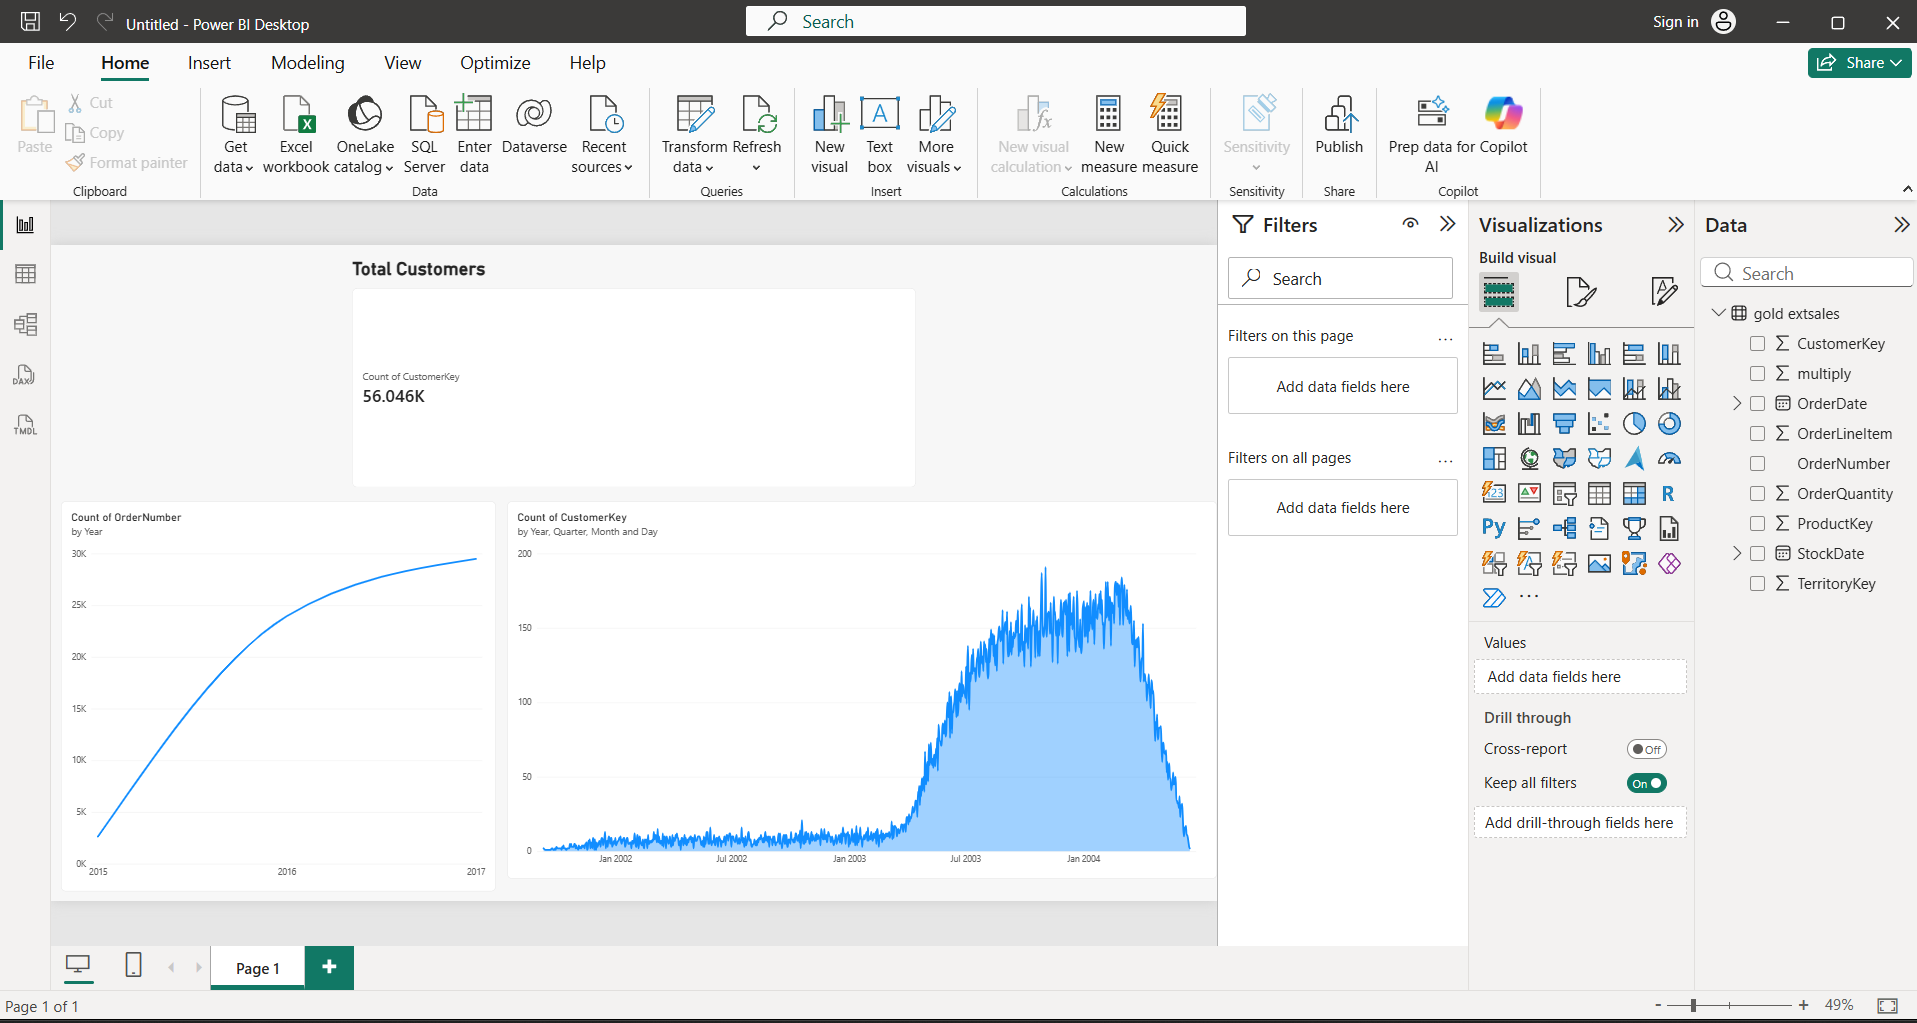

What the dashboard file says about the page in this screenshot:
{"tool":"powerbi","page":{"name":"Page 1","canvas":[1920,1080],"ordinal":0},"visuals":[{"type":"lineChart","fields":{"Category":["gold extsales.OrderDate.Variation.Date Hierarchy.Year","gold extsales.OrderDate.Variation.Date Hierarchy.Quarter","gold extsales.OrderDate.Variation.Date Hierarchy.Month","gold extsales.OrderDate.Variation.Date Hierarchy.Day"],"Y":["CountNonNull(gold extsales.OrderNumber)"]},"box":[14,540,782,518],"z":0},{"type":"cardVisual","title":"Total Customer","fields":{"Data":["CountNonNull(gold extsales.CustomerKey)"]},"box":[1387.3,32.9,496.1,436.4],"z":1},{"type":"areaChart","fields":{"Category":["gold extsales.StockDate"],"Y":["CountNonNull(gold extsales.CustomerKey)"]},"box":[14,0,1346,494],"z":2},{"type":"areaChart","fields":{"Category":["gold extsales.OrderDate.Variation.Date Hierarchy.Year","gold extsales.OrderDate.Variation.Date Hierarchy.Quarter","gold extsales.OrderDate.Variation.Date Hierarchy.Month","gold extsales.OrderDate.Variation.Date Hierarchy.Day"],"Y":["Sum(gold extsales.OrderQuantity)"]},"box":[828,540,982,518],"z":3}]}

Visuals, with their boxes on the page's 1920x1080 design canvas (x1, y1, x2, y2). These are canvas units, not pixel positions in the 1917x1023 screenshot, which may show the page scaled, cropped or inside an application window:
lineChart - gold extsales.OrderDate.Variation.Date Hierarchy.Year x gold extsales.OrderDate.Variation.Date Hierarchy.Quarter: (14,540,796,1058)
"Total Customer" cardVisual: (1387,33,1883,469)
areaChart - gold extsales.StockDate x CountNonNull(gold extsales.CustomerKey): (14,0,1360,494)
areaChart - gold extsales.OrderDate.Variation.Date Hierarchy.Year x gold extsales.OrderDate.Variation.Date Hierarchy.Quarter: (828,540,1810,1058)
